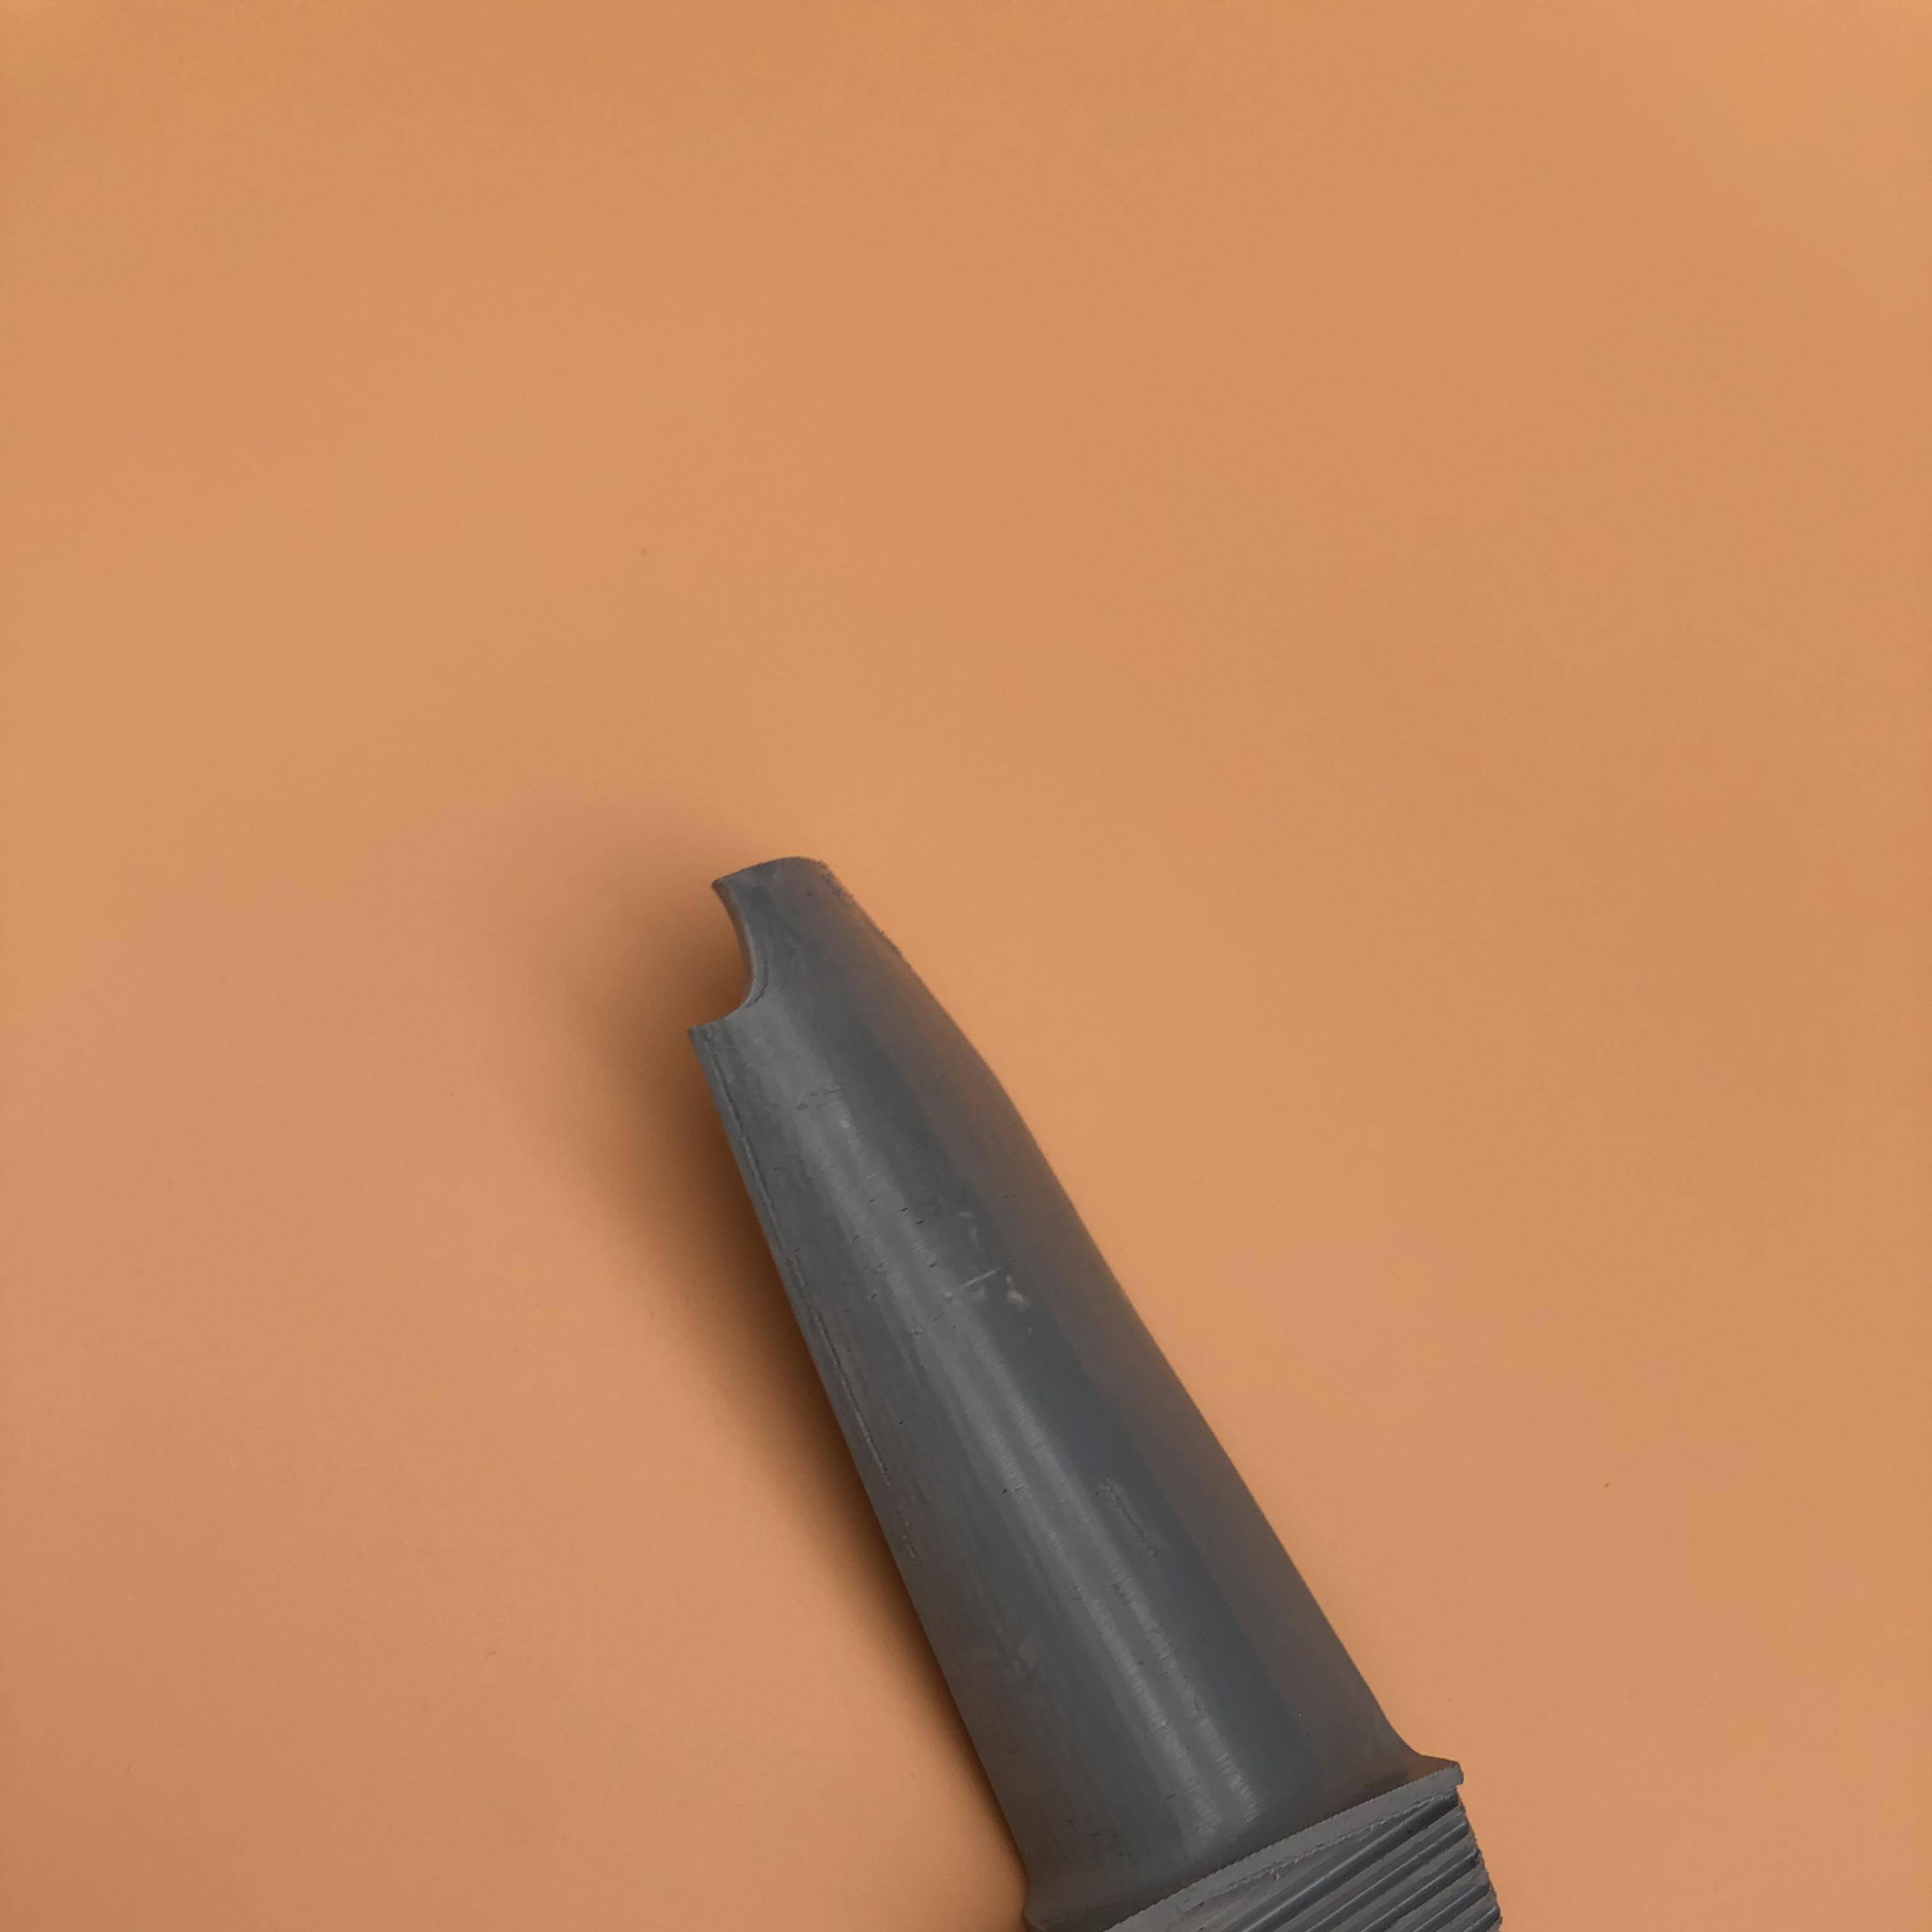fracture: (679, 888, 801, 1047)
